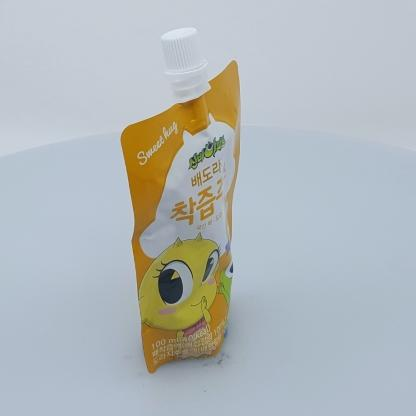-------------------100ML: (120, 27, 241, 374)
